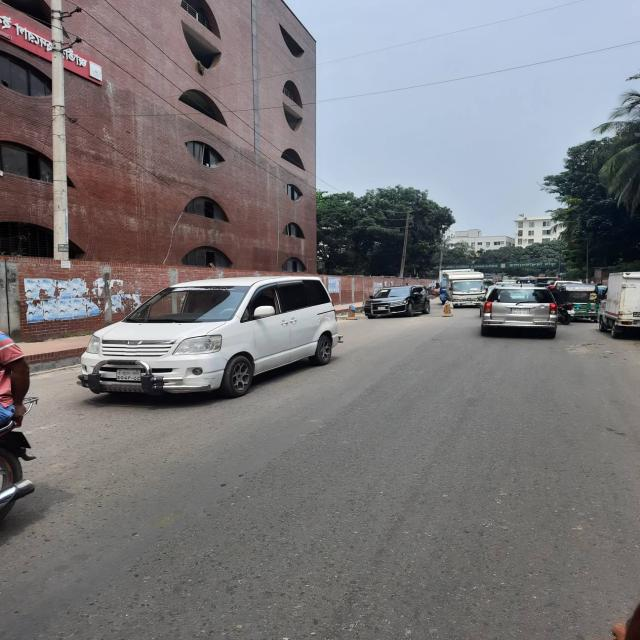Car: (479, 283, 562, 342), (368, 284, 435, 319)
Zeep: (82, 267, 341, 411)
